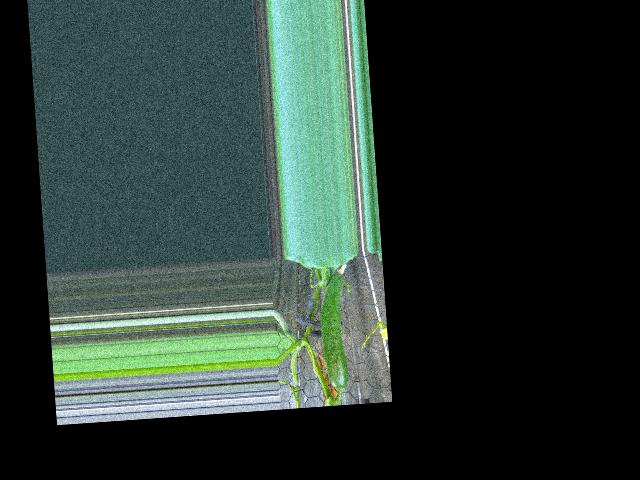cucumber: (316, 274, 349, 389)
